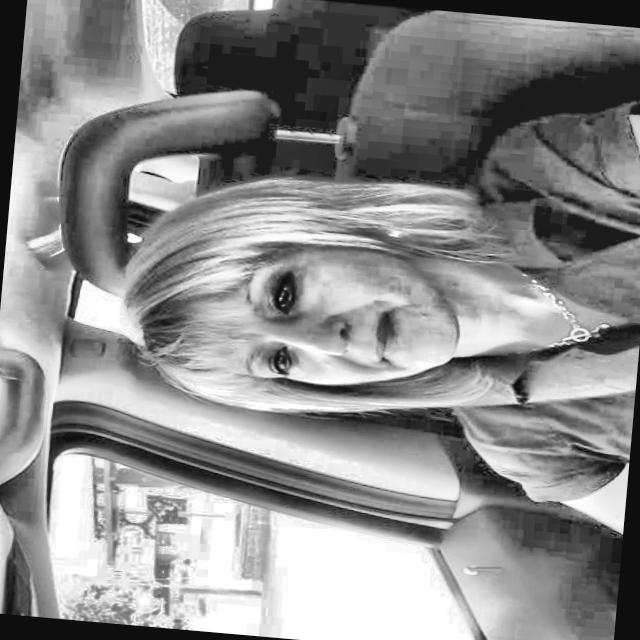closed_mouth: (359, 292, 428, 396)
open_eyes: (259, 261, 320, 323), (248, 341, 314, 395)
